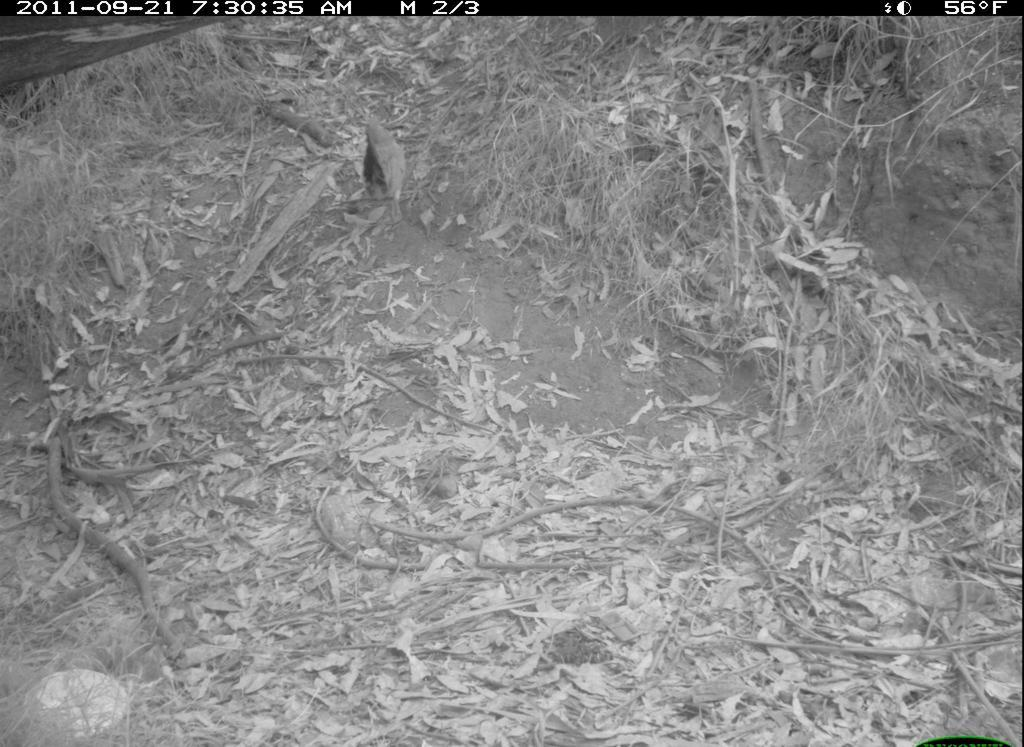bird: (340, 105, 416, 237)
